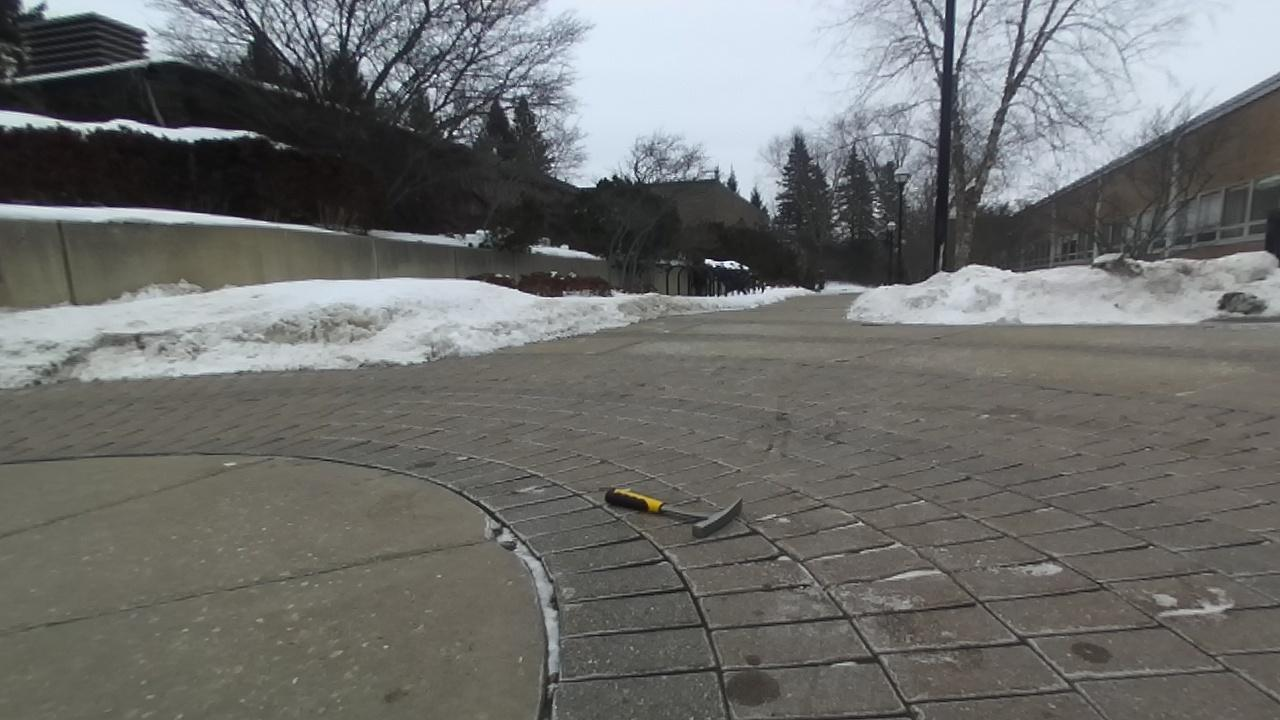pick: (604, 488, 742, 538)
